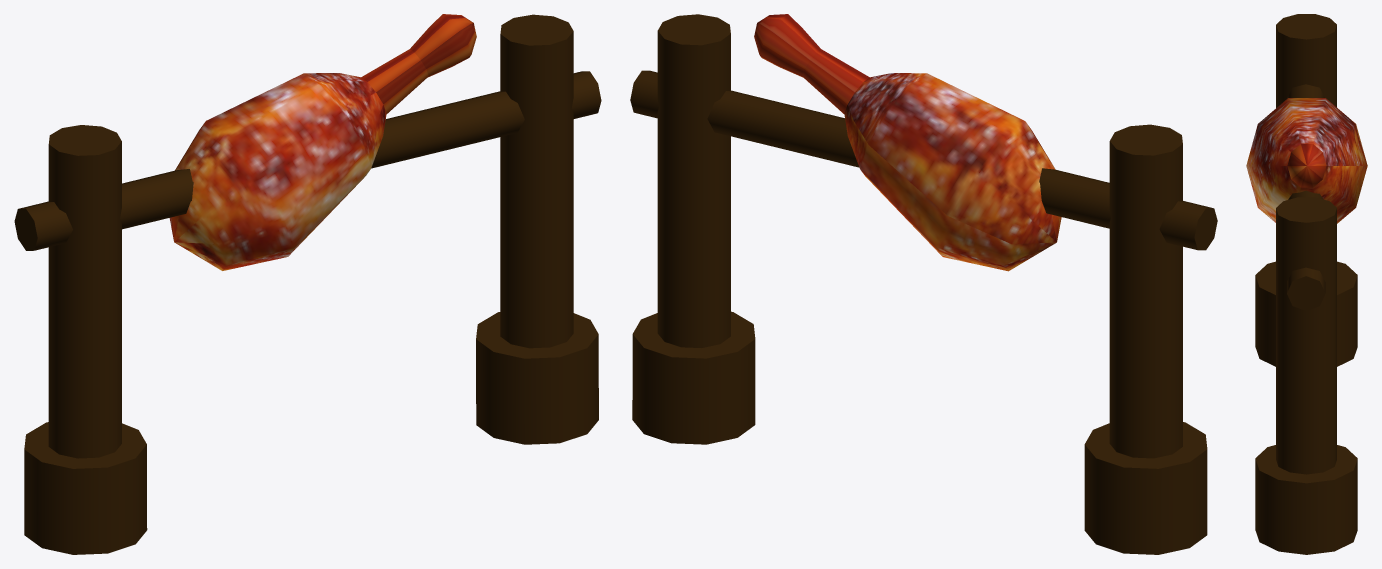
The model's file is chicken.FBX.
3 views of the same model, side by side, from view 1: azimuth 30°, elevation 25°; view 2: azimuth 150°, elevation 25°; view 3: azimuth 270°, elevation 25° (orthographic). The views are drawn at different scales.
Visible parts, largest first — view 1: Object001; view 2: Object001; view 3: Object001.
Boxes of the visible parts, box(x1,y1,x2,y2) form: Object001: box(14, 14, 601, 554); Object001: box(630, 14, 1217, 554); Object001: box(1246, 14, 1367, 554).
Size of the model in its own units: 31.88 by 22.87 by 7.14.
